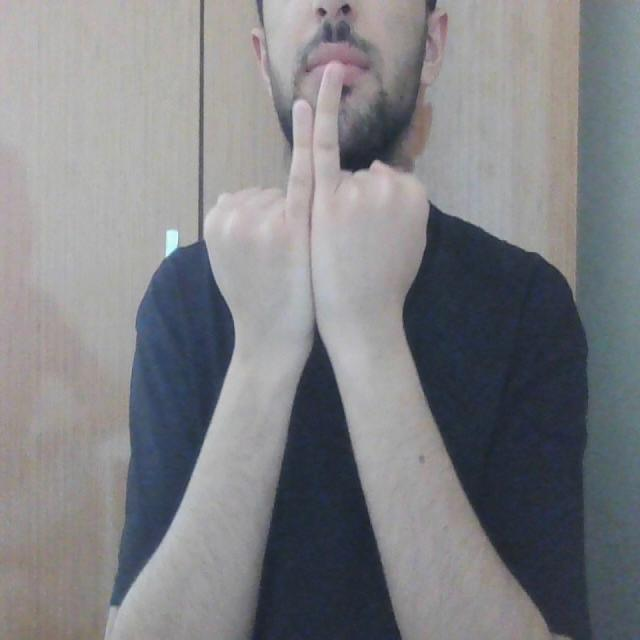Kardes: (196, 54, 434, 337)
